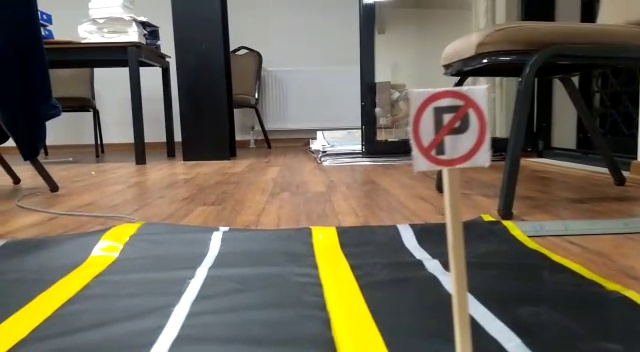park_yapilmaz: (408, 87, 488, 165)
